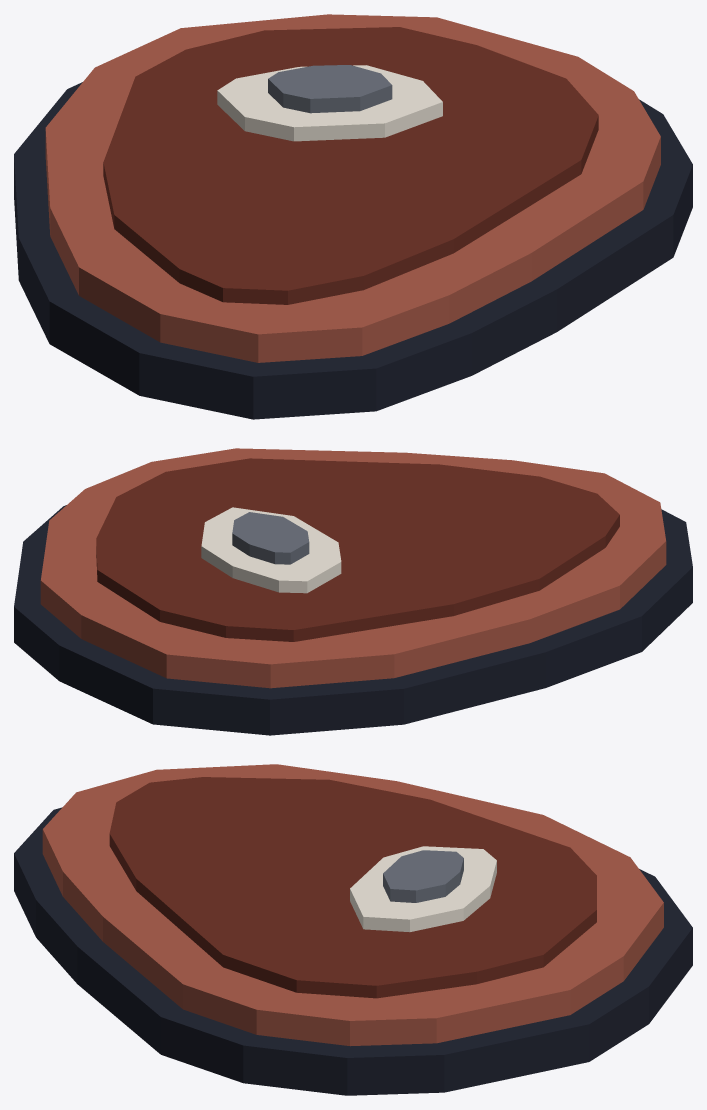
Rendered from cooked_meat.fbx.
The picture shows the model from 3 angles, top to bottom: view 1: azimuth 30°, elevation 25°; view 2: azimuth 150°, elevation 25°; view 3: azimuth 270°, elevation 25°; orthographic projection. The views are drawn at different scales.
Visible parts, largest first — view 1: cooked_meat; view 2: cooked_meat; view 3: cooked_meat.
Part boxes in pixels (left/top/right/bottom): cooked_meat: left=14, top=14, right=692, bottom=419; cooked_meat: left=14, top=448, right=692, bottom=735; cooked_meat: left=14, top=764, right=692, bottom=1095.
Bounding box in the file's own units: 0.9562 × 0.16 × 0.9777.
1 material, 1 textured.
